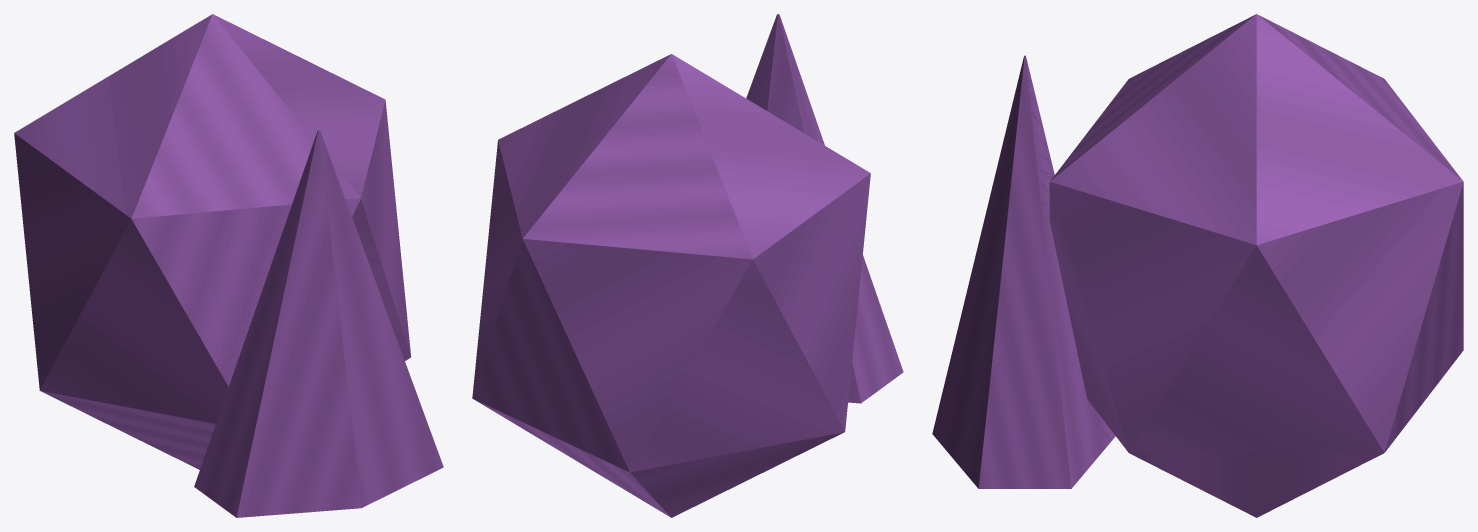
File: finisher.glb
The picture shows the model from 3 angles, left to right: view 1: azimuth 30°, elevation 25°; view 2: azimuth 150°, elevation 25°; view 3: azimuth 270°, elevation 25°; orthographic projection. The views are drawn at different scales.
Visible parts, largest first — view 1: gear_finisher; view 2: gear_finisher; view 3: gear_finisher.
Part boxes in pixels (<box>): gear_finisher: <box>14,14,443,517</box>; gear_finisher: <box>472,14,903,517</box>; gear_finisher: <box>932,14,1463,517</box>.
Bounding box in the file's own units: 0.1878 × 0.24 × 0.2293.
1 material, 1 textured.
